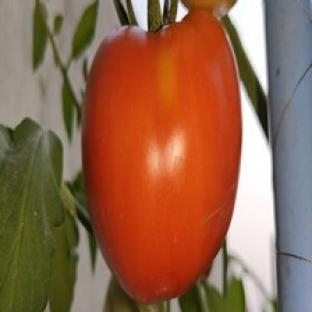Tomato: (83, 10, 240, 302)
